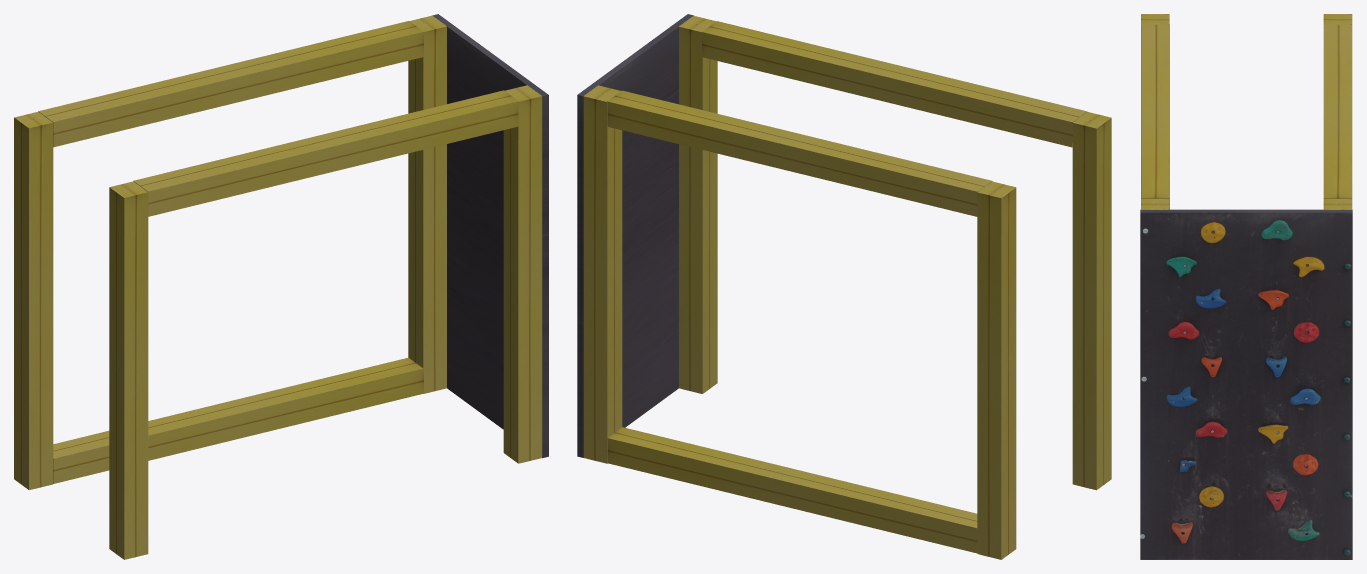
File: kid1_lod.FBX
3 renders of one model, left to right at view 1: azimuth 30°, elevation 25°; view 2: azimuth 150°, elevation 25°; view 3: azimuth 270°, elevation 25°, orthographic. The views are drawn at different scales.
Visible parts, largest first — view 1: Box009; view 2: Box009; view 3: Box009.
Part boxes in pixels (left/top/right/bottom): Box009: left=14, top=14, right=548, bottom=559; Box009: left=577, top=14, right=1111, bottom=559; Box009: left=1140, top=14, right=1352, bottom=559.
Size of the model in its own units: 124 by 101 by 55.82.
